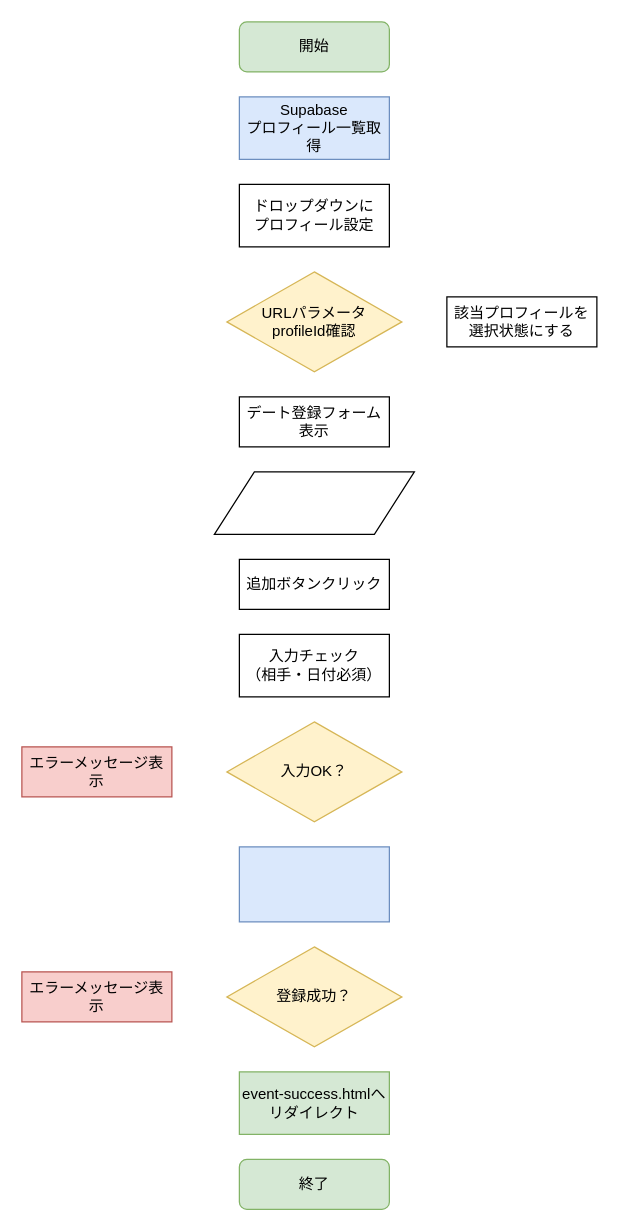
Some shapes in this 619 by 1231 pixel diagram are drawn without their labels. The shapes that lost their labels are listed below. From the top down, each one's centre as x and y in pixels, then its label:
pixel 313 502: 相手選択・日付入力
pixel 313 884: Supabase イベント登録 （comment=空）
